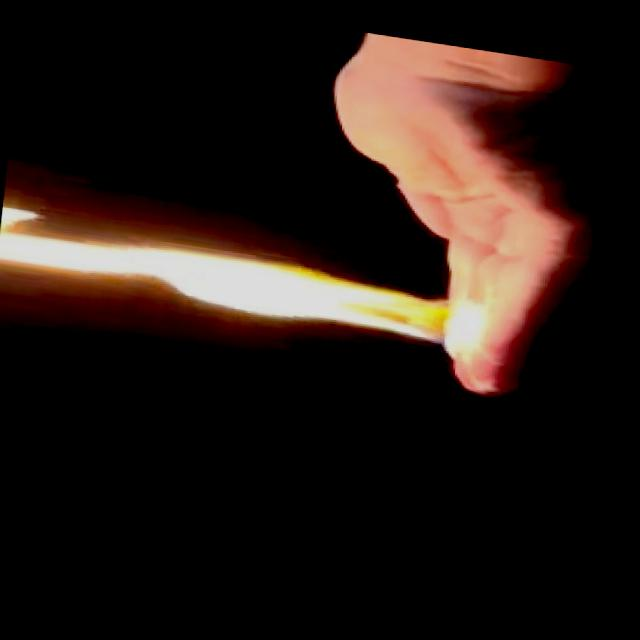helmet: (0, 186, 507, 358)
